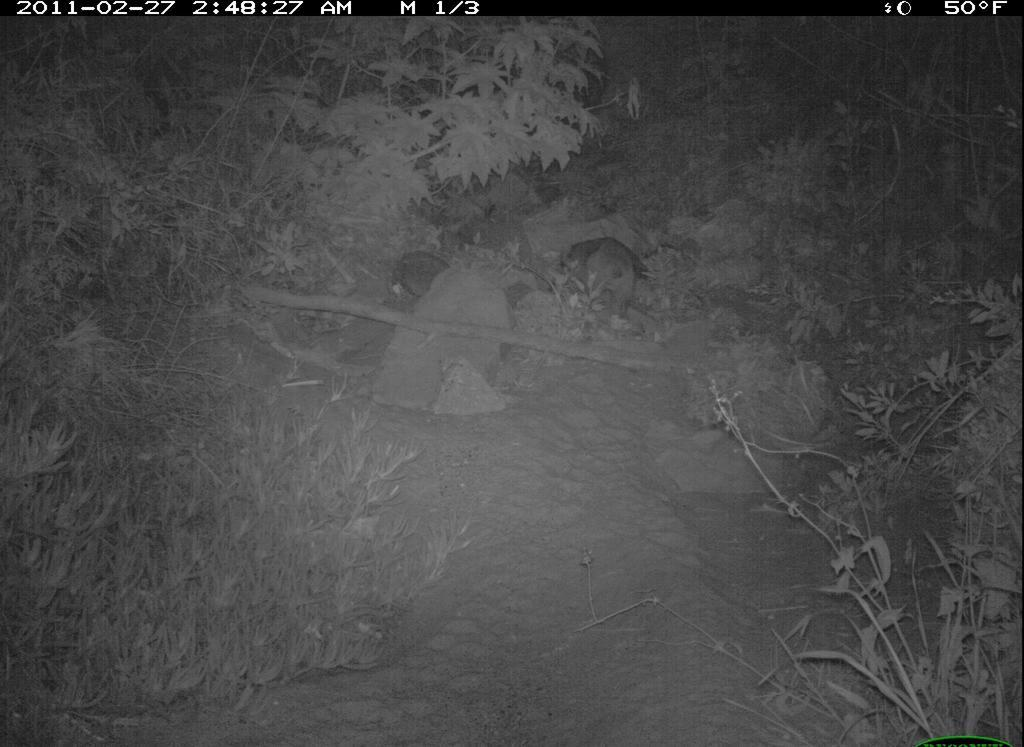raccoon: (473, 199, 646, 305)
